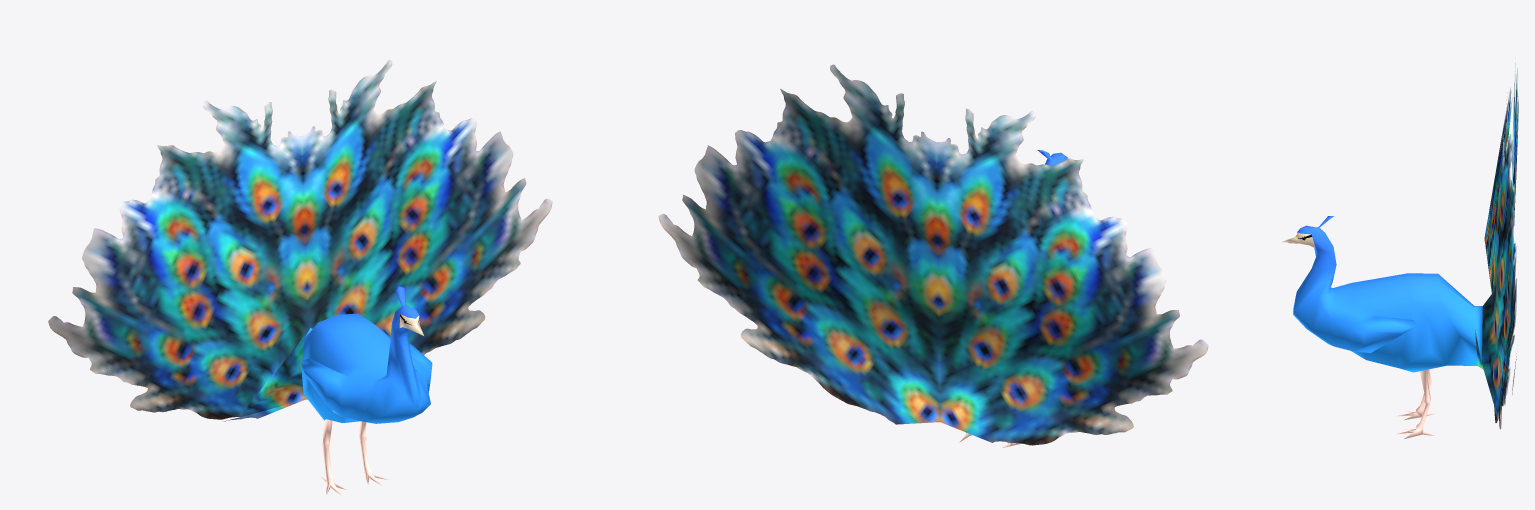
File: Peacock02.glb
The picture shows the model from 3 angles, left to right: view 1: azimuth 30°, elevation 25°; view 2: azimuth 150°, elevation 25°; view 3: azimuth 270°, elevation 25°; orthographic projection. The views are drawn at different scales.
Parts seen in each view (by area): view 1: Peacock02; view 2: Peacock02; view 3: Peacock02.
Boxes of the visible parts, x1,y1,x2,y2 form: Peacock02: [48, 60, 552, 495]; Peacock02: [658, 64, 1208, 447]; Peacock02: [1281, 54, 1518, 438].
Size of what is drawn, in the model's own units: 3.25 by 2.25 by 1.28.
Materials: 2 (2 with a texture image).
